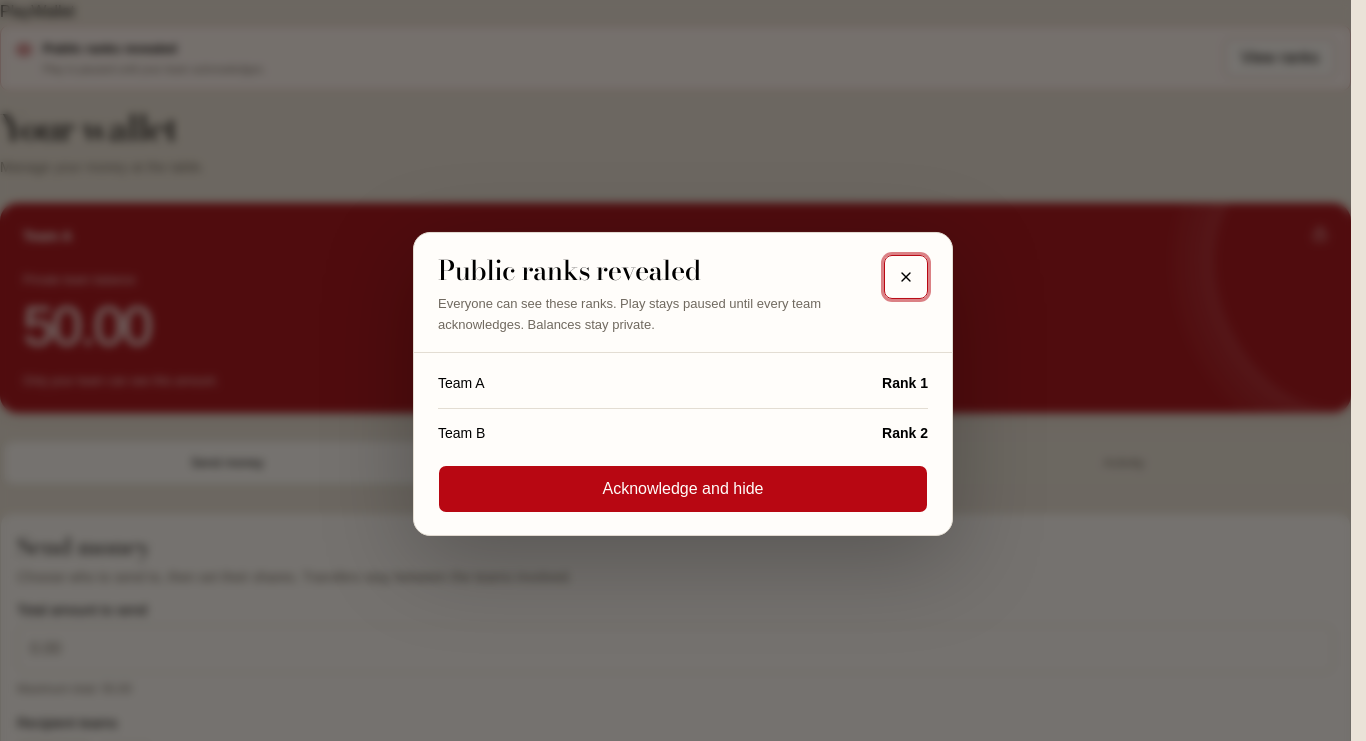
player session lifetime › lets a team close and reopen the public ranks dialog without acknowledging it
This screenshot has width=1366, height=741.
Expected: the text "Team A" is shown, [438,373,485,394]
Click the button named "Close ranks" at (906, 277), box [884,255,928,299]
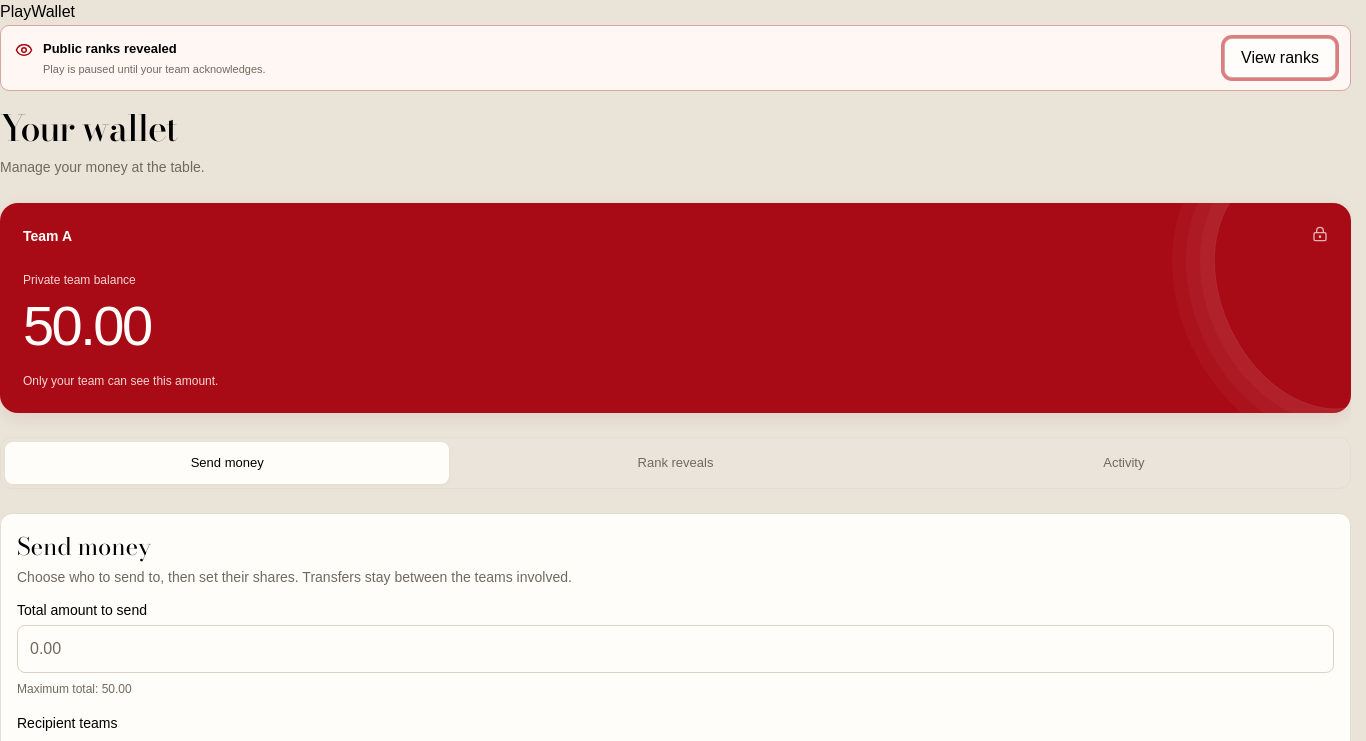
Click the button "View ranks" at (1280, 58), box [1224,38,1336,78]
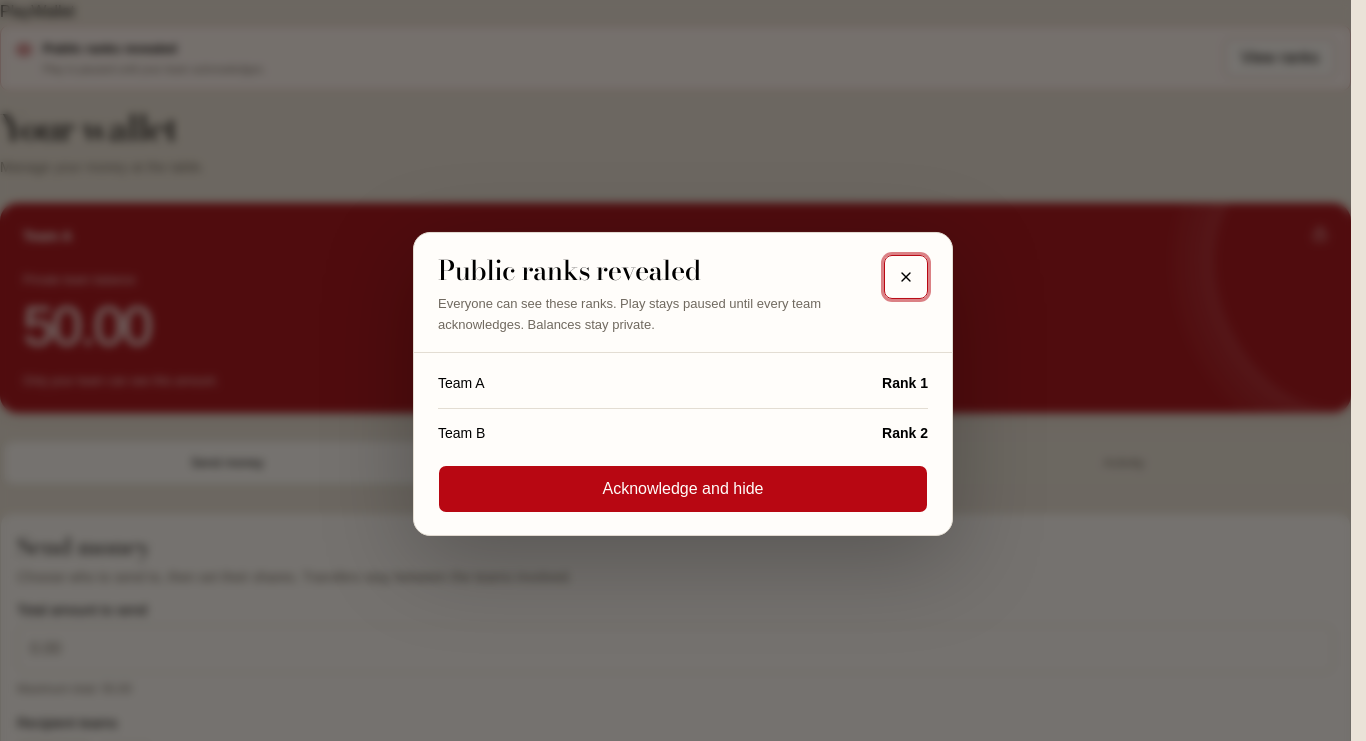
Click the button "Acknowledge and hide" at (683, 489), box [438,465,928,513]
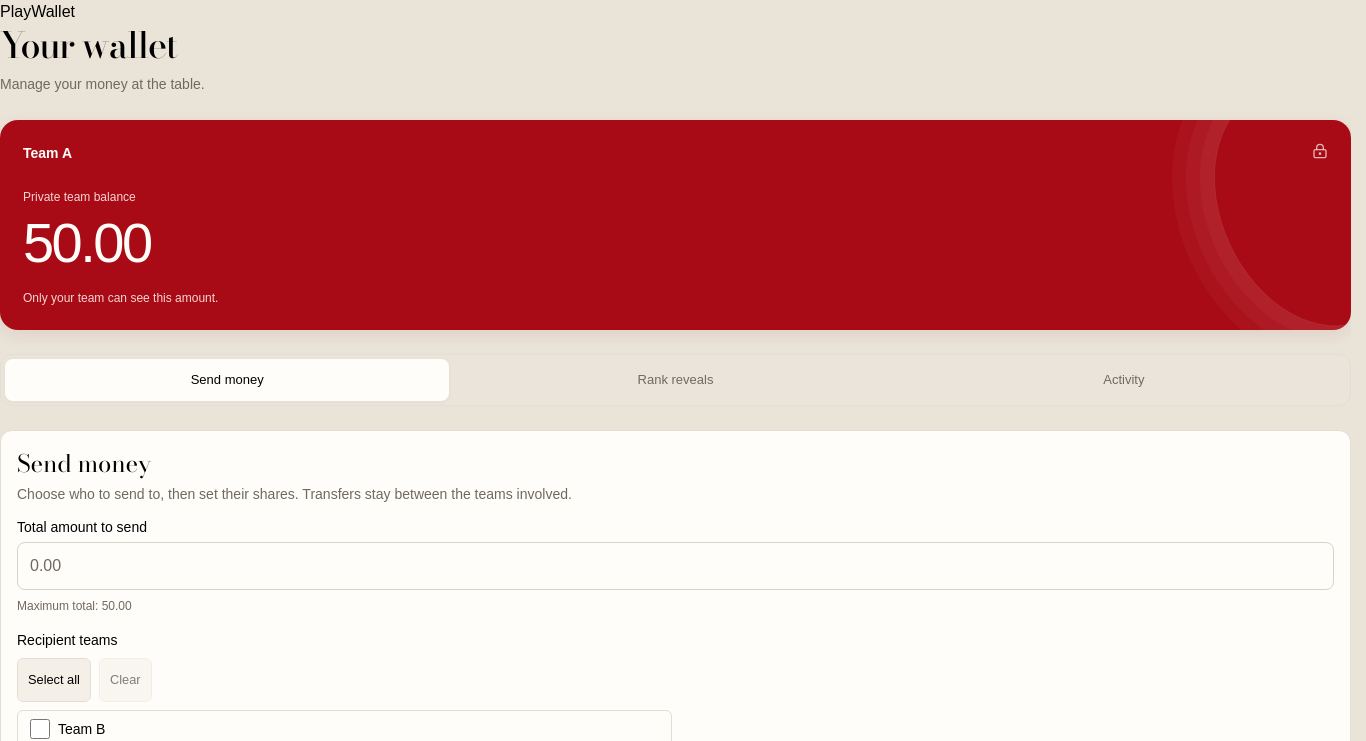
Expected: the text "Public ranks revealed" is gone
